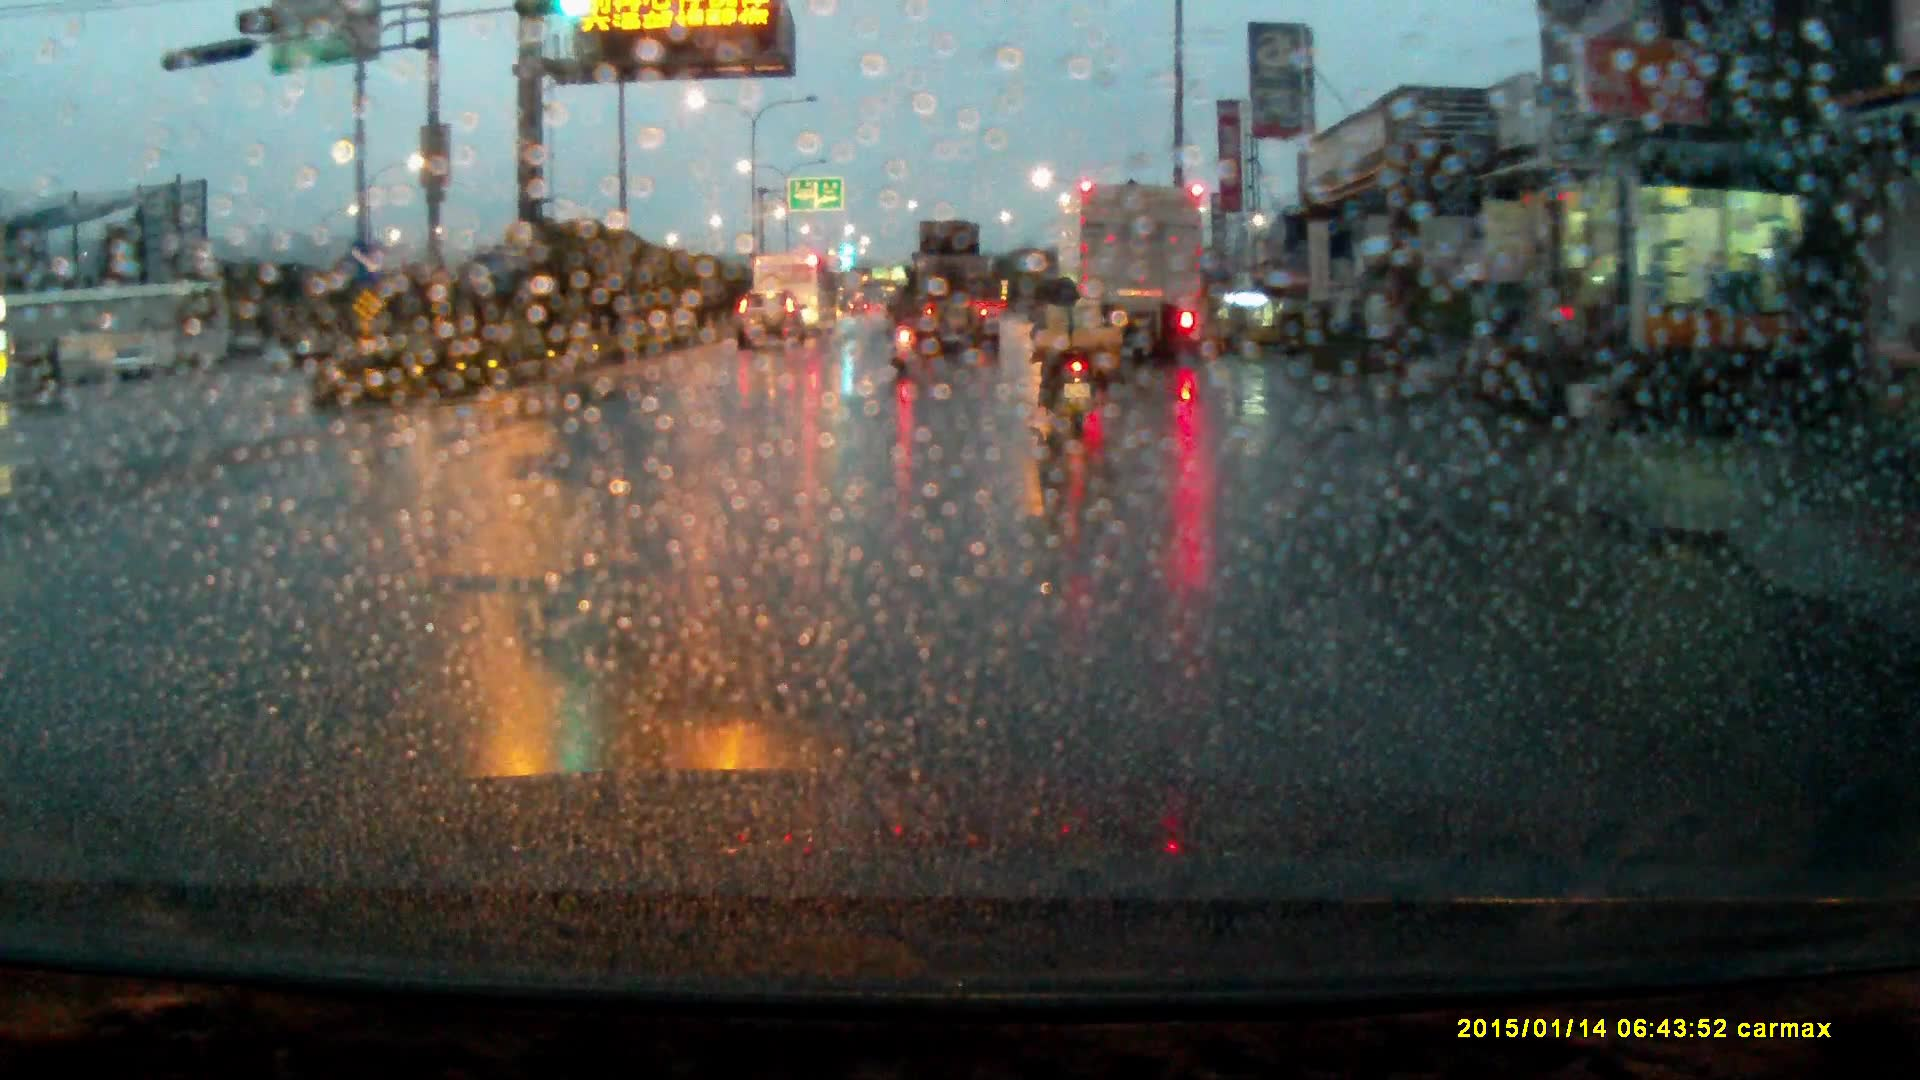rider: (1030, 265, 1112, 433), (890, 268, 929, 367)
vehicle: (1057, 183, 1212, 364), (899, 217, 1001, 357), (767, 244, 842, 327), (739, 285, 810, 351)
